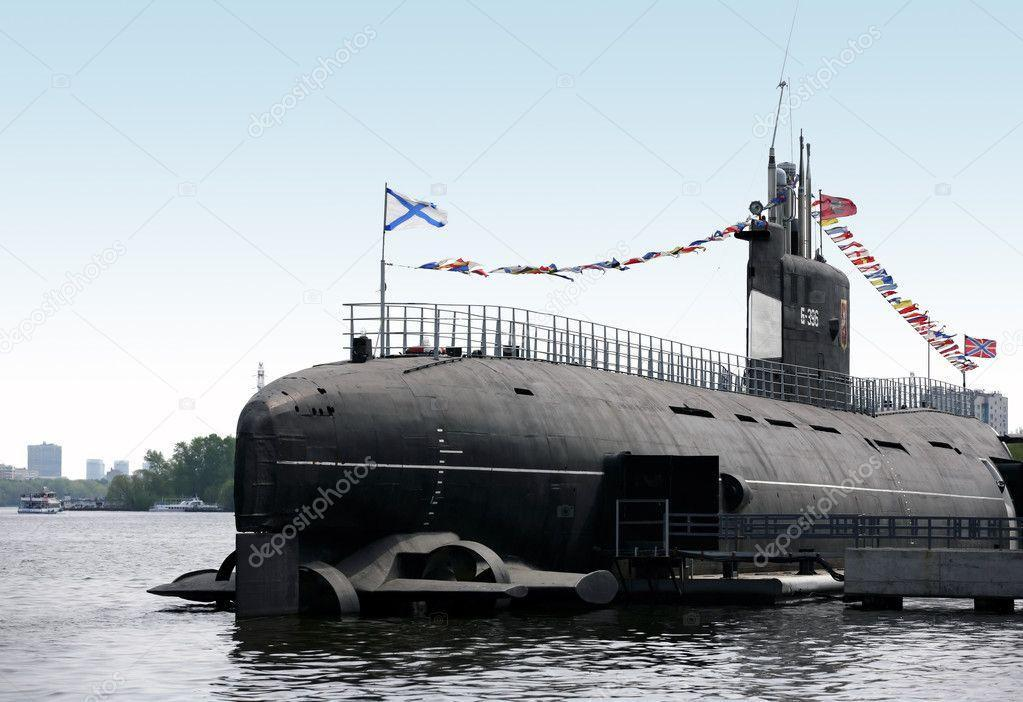Submarine: (133, 80, 1023, 702)
